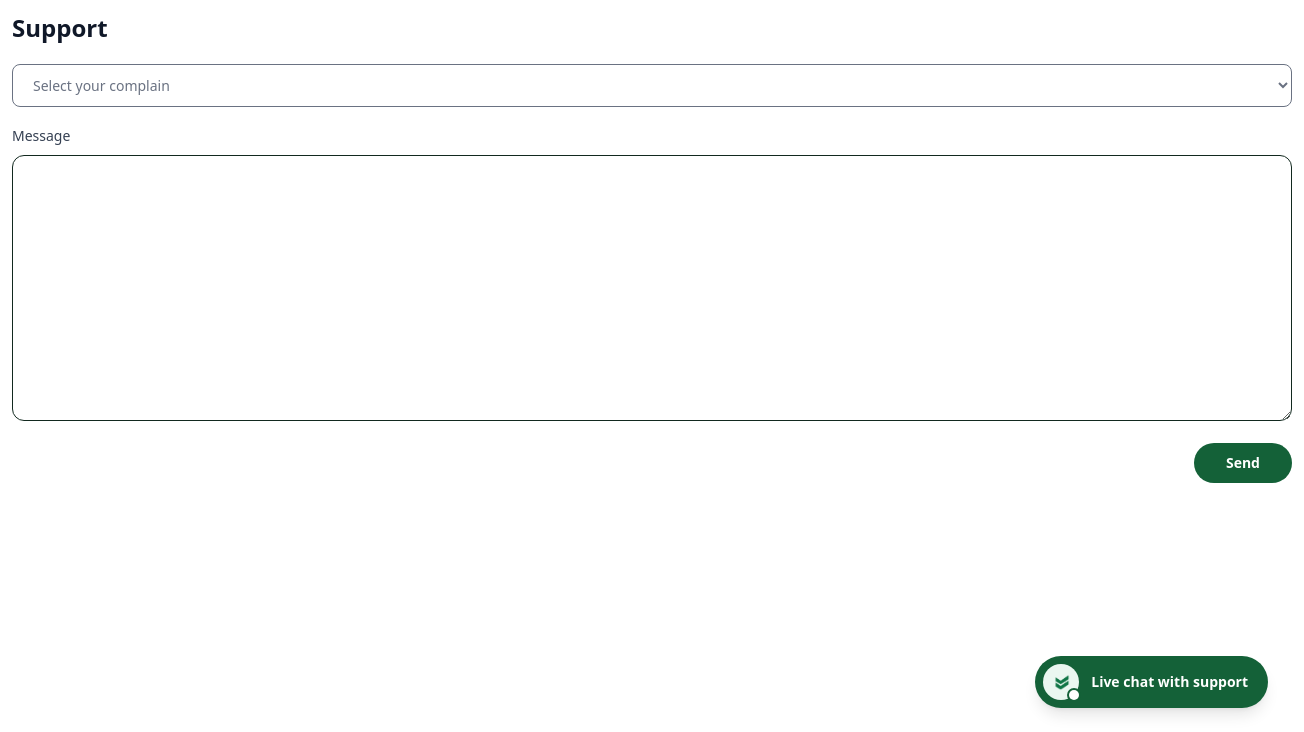
it: SupportPage live chat › resumes an existing open ticket instead of starting a new one
Click the button with aria-label "Open live chat" at (1152, 682), box [1035,656,1268,708]
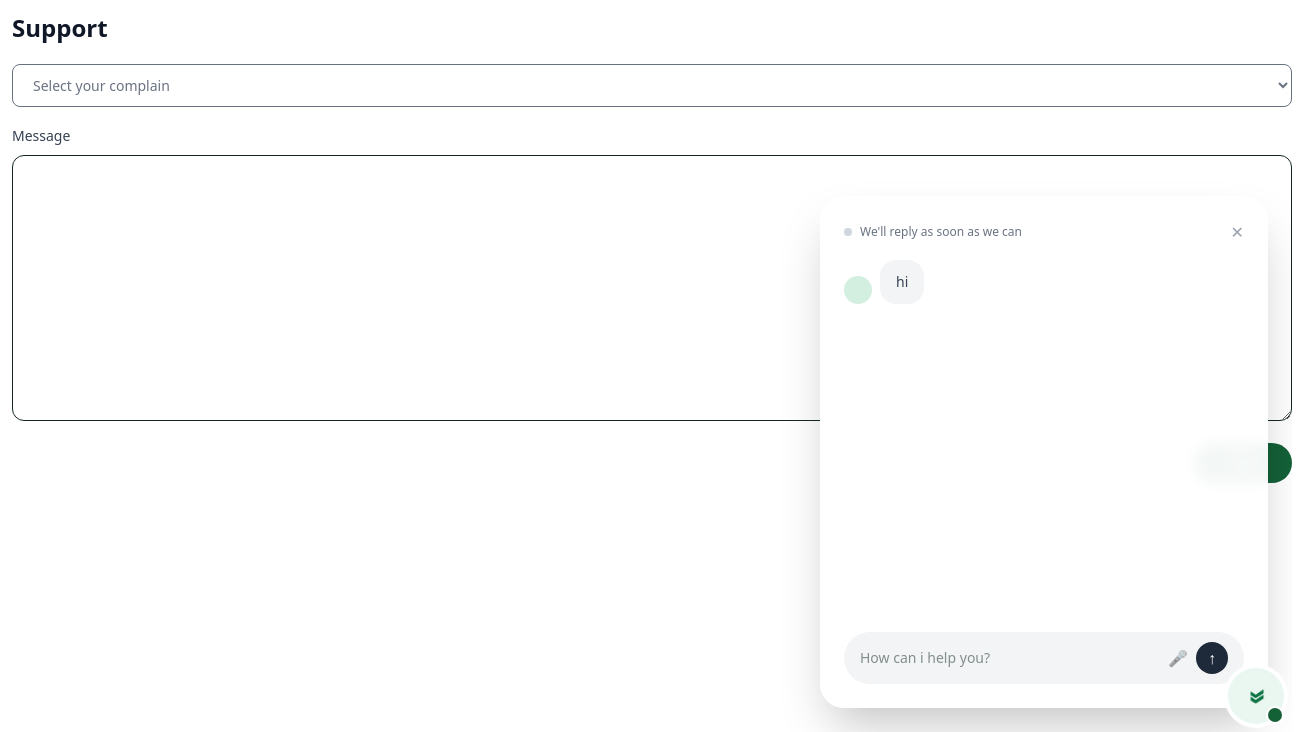
Check: the text "hi" is shown, box [880,260,924,304]
Check: the field with placeholder "How can i help you?" is shown, box [860,648,1160,668]
